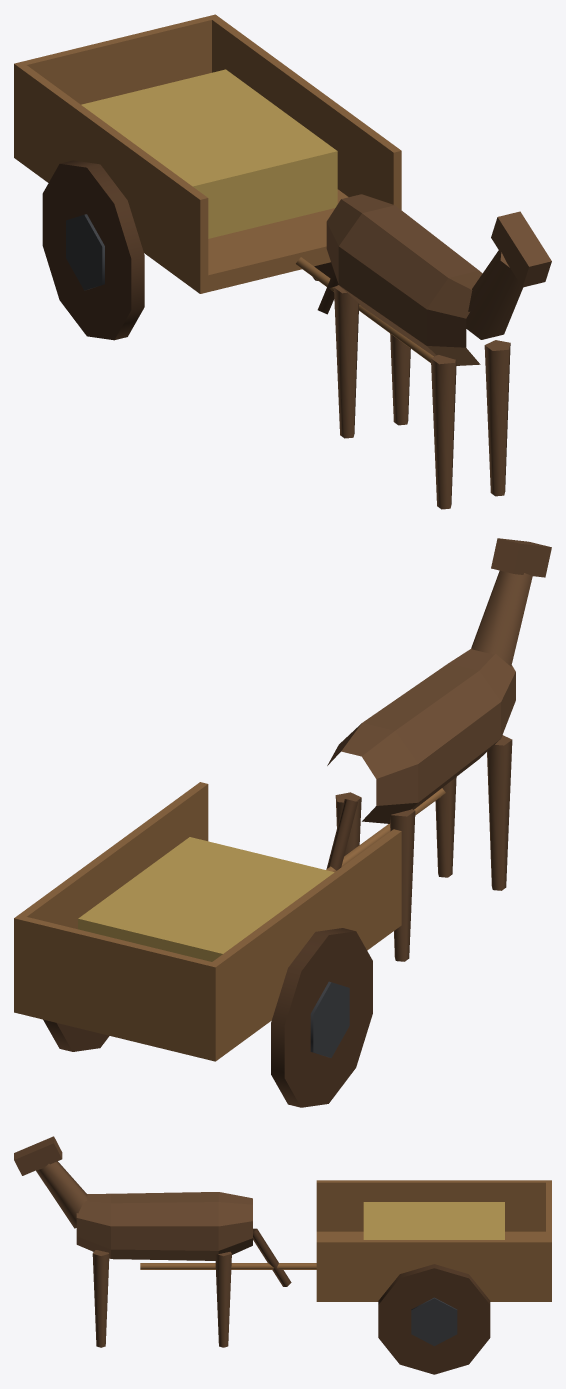
Rendered from veh_ground_cart_a01.glb.
3 views of the same model, one above another, from view 1: azimuth 30°, elevation 25°; view 2: azimuth 150°, elevation 25°; view 3: azimuth 270°, elevation 25° (orthographic). The views are drawn at different scales.
Parts seen in each view (by area): view 1: body, animal_0, wheel_0; view 2: body, animal_0, wheel_0, wheel_1; view 3: body, animal_0, wheel_1.
Part boxes in pixels (left/top/right/bottom): body: left=14, top=14, right=433, bottom=362; animal_0: left=317, top=194, right=551, bottom=509; wheel_0: left=42, top=160, right=144, bottom=340; body: left=14, top=782, right=445, bottom=1061; animal_0: left=326, top=538, right=551, bottom=961; wheel_0: left=271, top=928, right=372, bottom=1107; wheel_1: left=43, top=1019, right=109, bottom=1051; body: left=140, top=1180, right=551, bottom=1301; animal_0: left=14, top=1136, right=291, bottom=1347; wheel_1: left=378, top=1264, right=490, bottom=1374.
Size of what is drawn, in the model's own units: 1.84 by 2.23 by 5.49.
